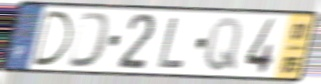2: (114, 11, 158, 72)
4: (243, 16, 278, 77)
D: (65, 10, 114, 70), (31, 9, 74, 68)
L: (156, 16, 188, 70)
Q: (202, 16, 244, 74)
